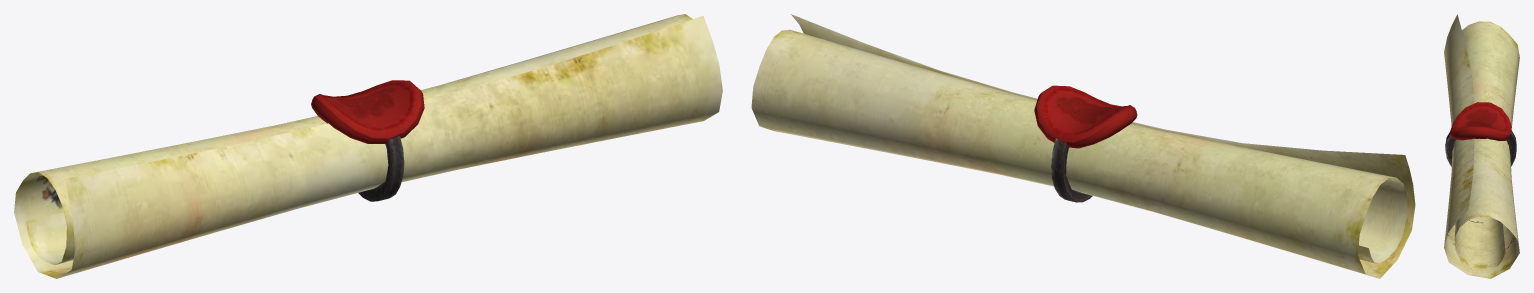
File: pergaminho.glb
The picture shows the model from 3 angles, left to right: view 1: azimuth 30°, elevation 25°; view 2: azimuth 150°, elevation 25°; view 3: azimuth 270°, elevation 25°; orthographic projection. The views are drawn at different scales.
Visible parts, largest first — view 1: Scroll_LP; view 2: Scroll_LP; view 3: Scroll_LP.
Boxes of the visible parts, left/top/right/bottom form: Scroll_LP: left=14, top=14, right=722, bottom=278; Scroll_LP: left=751, top=14, right=1415, bottom=278; Scroll_LP: left=1444, top=14, right=1519, bottom=278.
Bounding box in the file's own units: 0.9336 × 0.1552 × 0.1534.
Materials: 1 (1 with a texture image).
